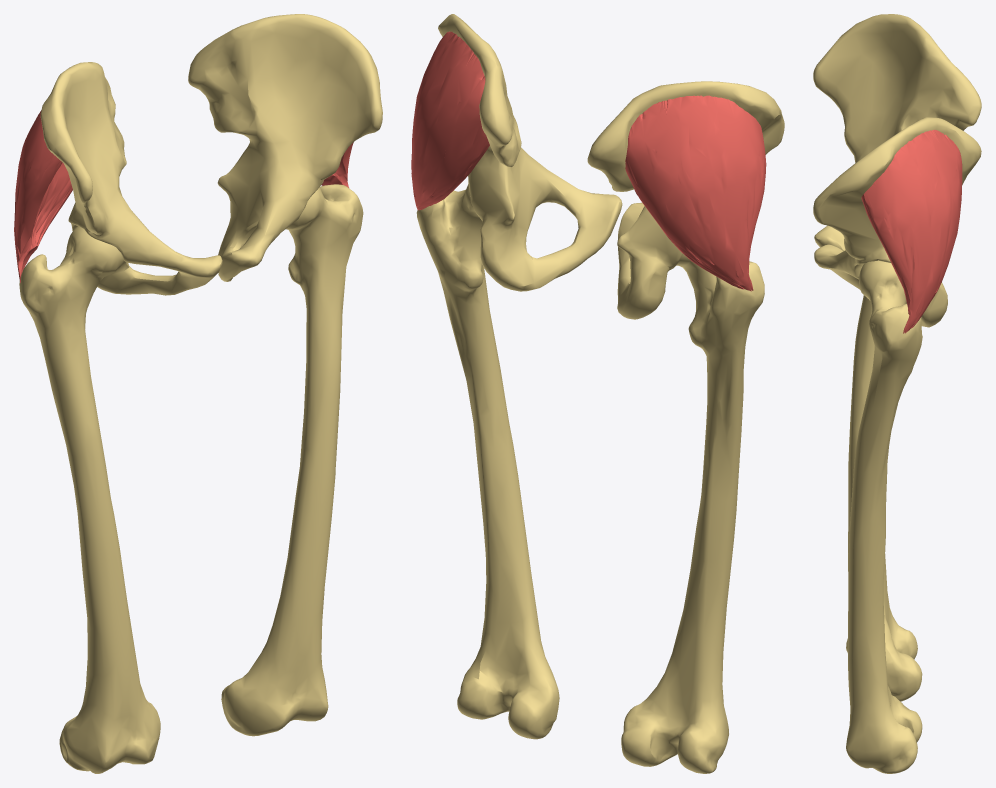
The model's file is hip-pelvis.glb.
The picture shows the model from 3 angles, left to right: view 1: azimuth 30°, elevation 25°; view 2: azimuth 150°, elevation 25°; view 3: azimuth 270°, elevation 25°; orthographic projection. The views are drawn at different scales.
Parts seen in each view (by area): view 1: hip-pelvis:hip-bone:isa:FJ3288, hip-pelvis:femur:isa:FJ3365, hip-pelvis:femur:isa:FJ3259, hip-pelvis:hip-bone:isa:FJ3152, hip-pelvis:gluteus-medius:isa:FJ1419; view 2: hip-pelvis:femur:isa:FJ3259, hip-pelvis:femur:isa:FJ3365, hip-pelvis:gluteus-medius:isa:FJ1419, hip-pelvis:hip-bone:isa:FJ3288, hip-pelvis:hip-bone:isa:FJ3152, hip-pelvis:gluteus-medius:isa:FJ1419M; view 3: hip-pelvis:femur:isa:FJ3259, hip-pelvis:hip-bone:isa:FJ3152, hip-pelvis:gluteus-medius:isa:FJ1419M, hip-pelvis:hip-bone:isa:FJ3288, hip-pelvis:femur:isa:FJ3365.
Part boxes in pixels (x1,y1,x2,y2): hip-pelvis:hip-bone:isa:FJ3288: (188,14,382,281); hip-pelvis:femur:isa:FJ3365: (19,226,160,773); hip-pelvis:femur:isa:FJ3259: (221,184,363,736); hip-pelvis:hip-bone:isa:FJ3152: (40,62,222,295); hip-pelvis:gluteus-medius:isa:FJ1419: (14,110,72,283); hip-pelvis:femur:isa:FJ3259: (416,184,559,739); hip-pelvis:femur:isa:FJ3365: (621,254,764,773); hip-pelvis:gluteus-medius:isa:FJ1419: (625,95,766,291); hip-pelvis:hip-bone:isa:FJ3288: (438,14,622,291); hip-pelvis:hip-bone:isa:FJ3152: (587,81,784,319); hip-pelvis:gluteus-medius:isa:FJ1419M: (411,31,489,210); hip-pelvis:femur:isa:FJ3259: (846,260,922,773); hip-pelvis:hip-bone:isa:FJ3152: (813,14,981,250); hip-pelvis:gluteus-medius:isa:FJ1419M: (861,130,962,333); hip-pelvis:hip-bone:isa:FJ3288: (813,117,981,327); hip-pelvis:femur:isa:FJ3365: (846,295,922,701).
Bounding box in the file's own units: 0.3004 × 0.59 × 0.138.
